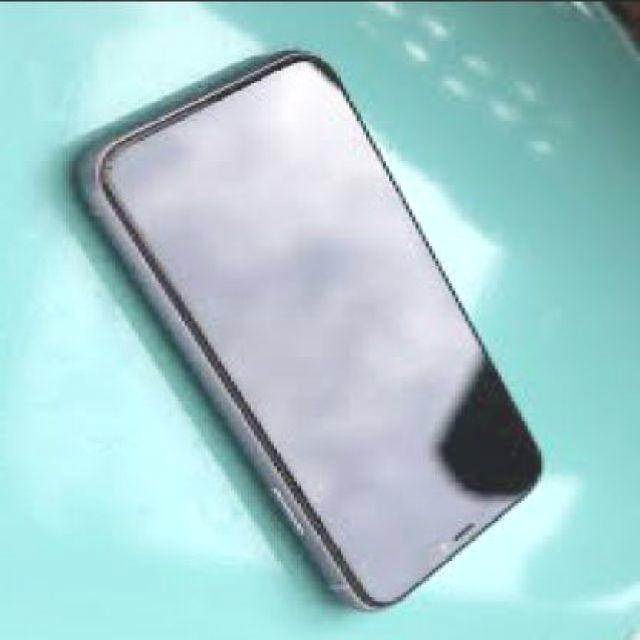phone: (73, 47, 541, 610)
